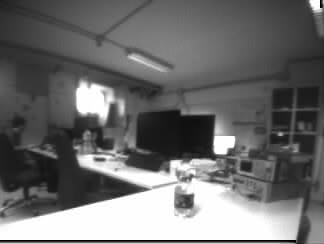Bottle: (174, 155, 196, 219)
